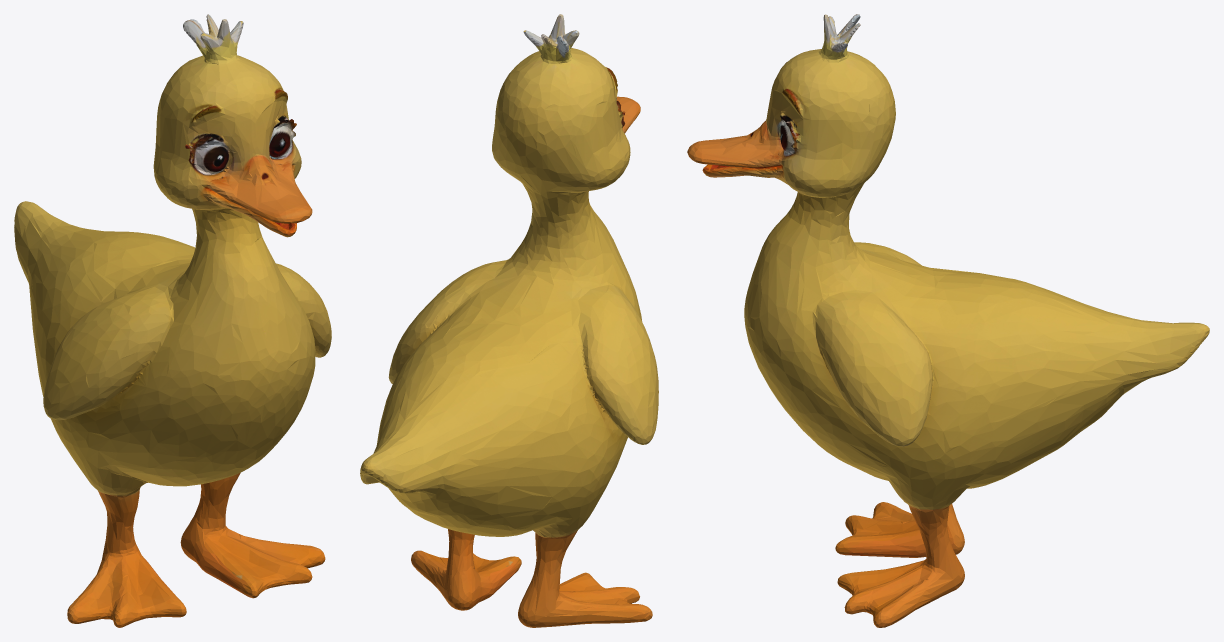
The model's file is npc_duck.glb.
3 views of the same model, side by side, from view 1: azimuth 30°, elevation 25°; view 2: azimuth 150°, elevation 25°; view 3: azimuth 270°, elevation 25° (orthographic). The views are drawn at different scales.
Visible parts, largest first — view 1: textured_mesh.obj; view 2: textured_mesh.obj; view 3: textured_mesh.obj.
Part boxes in pixels (left/top/right/bottom): textured_mesh.obj: left=14, top=14, right=331, bottom=627; textured_mesh.obj: left=360, top=14, right=658, bottom=627; textured_mesh.obj: left=687, top=14, right=1209, bottom=627.
Bounding box in the file's own units: 0.9633 × 1.99 × 1.69.
1 material, 1 textured.
